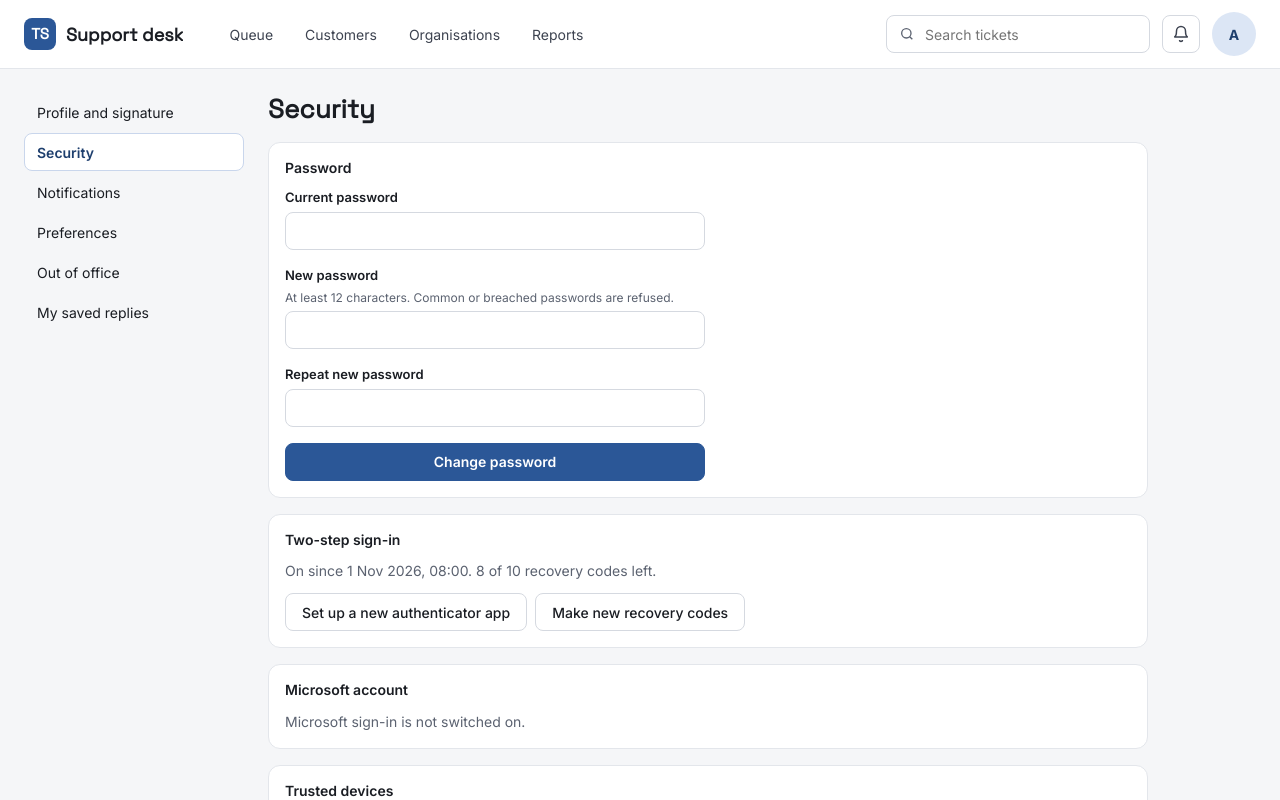
Test: two-step sign-in › shows no banner and asks for a code when two-step is not paused
Click the button "Make new recovery codes" at (640,612), box [535, 593, 745, 631]
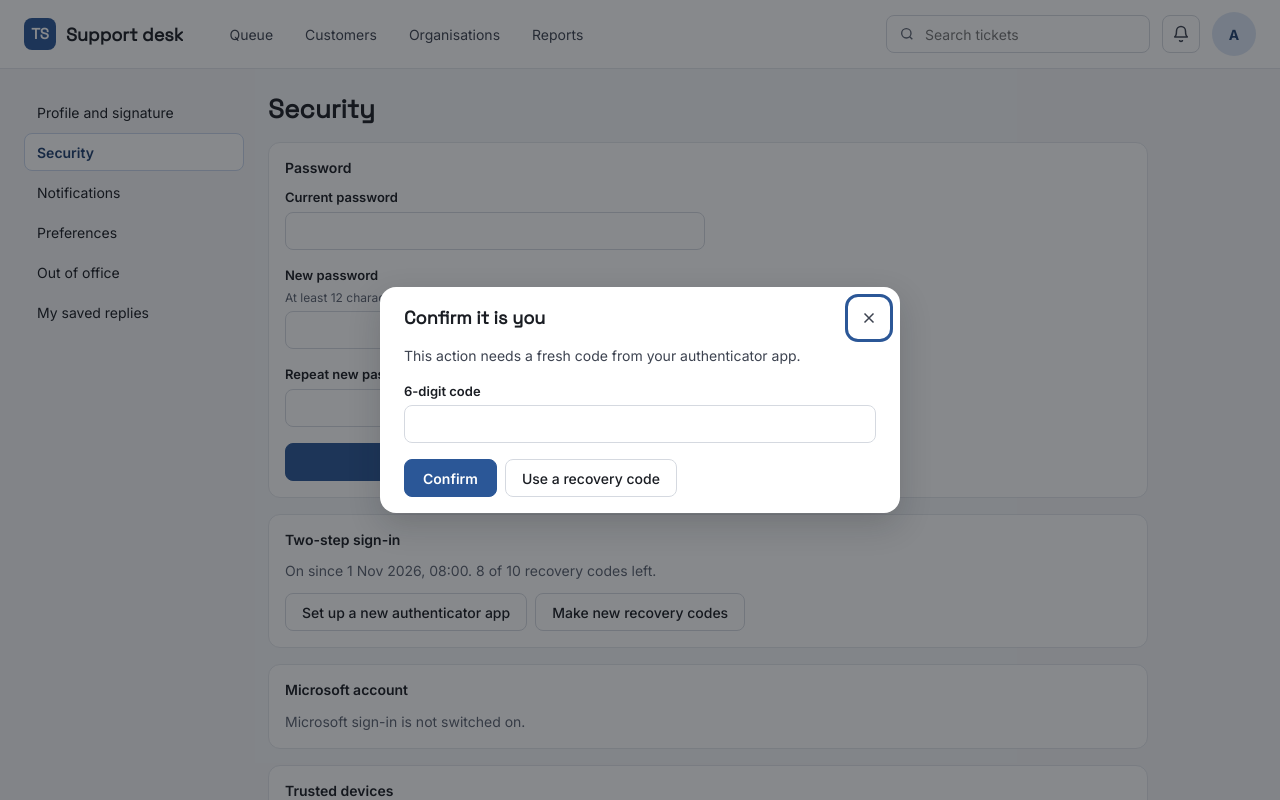
Expected: the field labelled "6-digit code" is shown, [404, 405, 876, 443]
